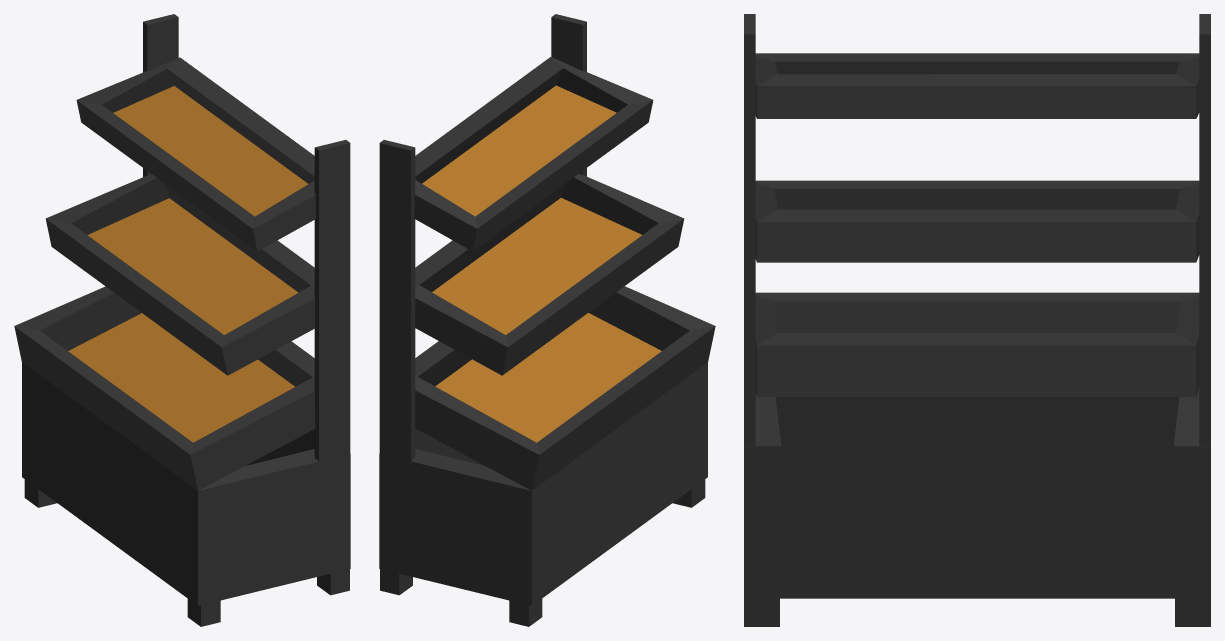
The model's file is box for tomatoes.fbx.
3 views of the same model, side by side, from view 1: azimuth 30°, elevation 25°; view 2: azimuth 150°, elevation 25°; view 3: azimuth 270°, elevation 25° (orthographic). The views are drawn at different scales.
Visible parts, largest first — view 1: Cube; view 2: Cube; view 3: Cube.
Part boxes in pixels (x1,y1,x2,y2): Cube: [14, 14, 350, 626]; Cube: [379, 14, 715, 626]; Cube: [744, 14, 1210, 626].
Size of the model in its own units: 108 by 280 by 200.
